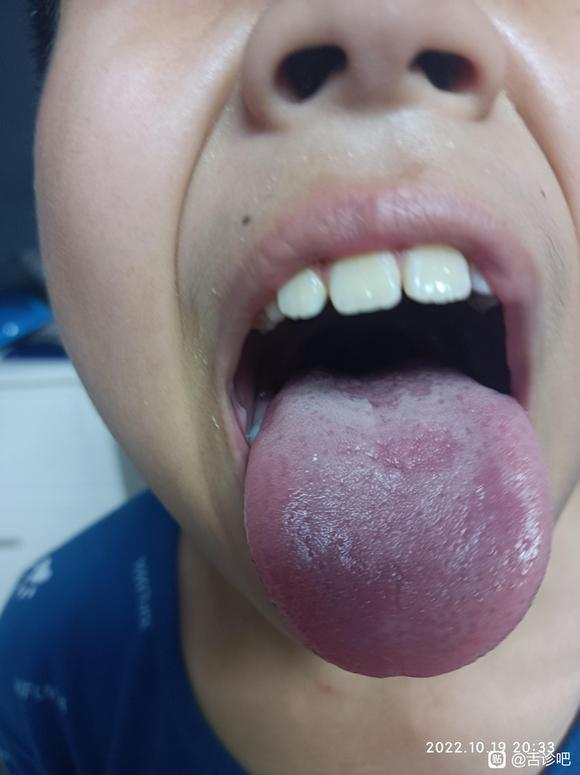baitaishe: (244, 368, 551, 678)
botaishe: (369, 418, 465, 474), (326, 374, 444, 413)
